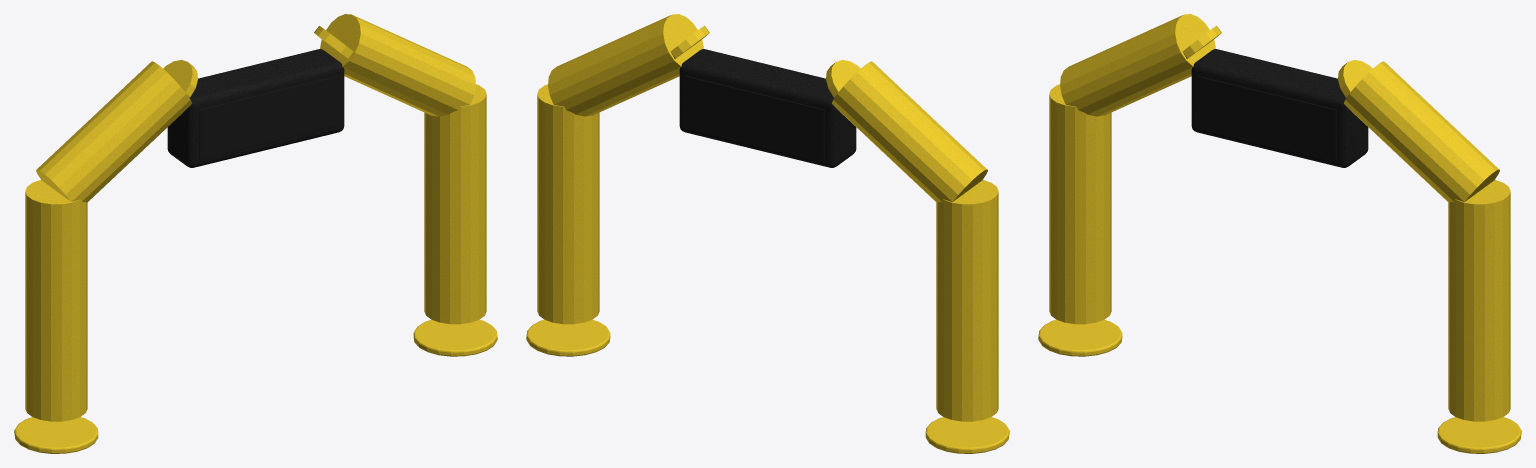
File: arch_preset_yellow_black.dae
The picture shows the model from 3 angles, left to right: view 1: azimuth 30°, elevation 25°; view 2: azimuth 150°, elevation 25°; view 3: azimuth 330°, elevation 25°; orthographic projection.
Parts seen in each view (by area): view 1: arch_leg_L, arch_leg_R, arch_arm_L, arch_arm_R, arch_block, arch_logo_plate_0, arch_foot_L, arch_foot_R, arch_conn_L; view 2: arch_leg_L, arch_leg_R, arch_arm_L, arch_arm_R, arch_block, arch_logo_plate_1, arch_foot_L, arch_foot_R, arch_conn_L; view 3: arch_leg_R, arch_leg_L, arch_arm_R, arch_arm_L, arch_block, arch_logo_plate_0, arch_foot_R, arch_foot_L, arch_conn_R.
Boxes of the visible parts, x1,y1,x2,y2 form: arch_leg_L: [25, 180, 87, 421]; arch_leg_R: [424, 84, 486, 324]; arch_arm_L: [36, 61, 191, 202]; arch_arm_R: [320, 14, 475, 116]; arch_block: [167, 49, 344, 167]; arch_logo_plate_0: [199, 76, 337, 159]; arch_foot_L: [14, 417, 98, 453]; arch_foot_R: [413, 319, 497, 356]; arch_conn_L: [163, 60, 197, 97]; arch_leg_L: [936, 180, 998, 421]; arch_leg_R: [537, 84, 599, 324]; arch_arm_L: [832, 61, 987, 202]; arch_arm_R: [548, 14, 703, 116]; arch_block: [679, 49, 856, 167]; arch_logo_plate_1: [686, 76, 824, 159]; arch_foot_L: [925, 417, 1009, 453]; arch_foot_R: [526, 319, 610, 356]; arch_conn_L: [826, 60, 860, 97]; arch_leg_R: [1448, 180, 1510, 421]; arch_leg_L: [1049, 84, 1111, 324]; arch_arm_R: [1344, 61, 1499, 202]; arch_arm_L: [1060, 14, 1215, 116]; arch_block: [1191, 49, 1368, 167]; arch_logo_plate_0: [1198, 76, 1336, 159]; arch_foot_R: [1437, 417, 1521, 453]; arch_foot_L: [1038, 319, 1122, 356]; arch_conn_R: [1338, 60, 1372, 97].
Size of the model in its own units: 9.59 by 1.49 by 6.75.
Materials: 3 (3 with a texture image).
